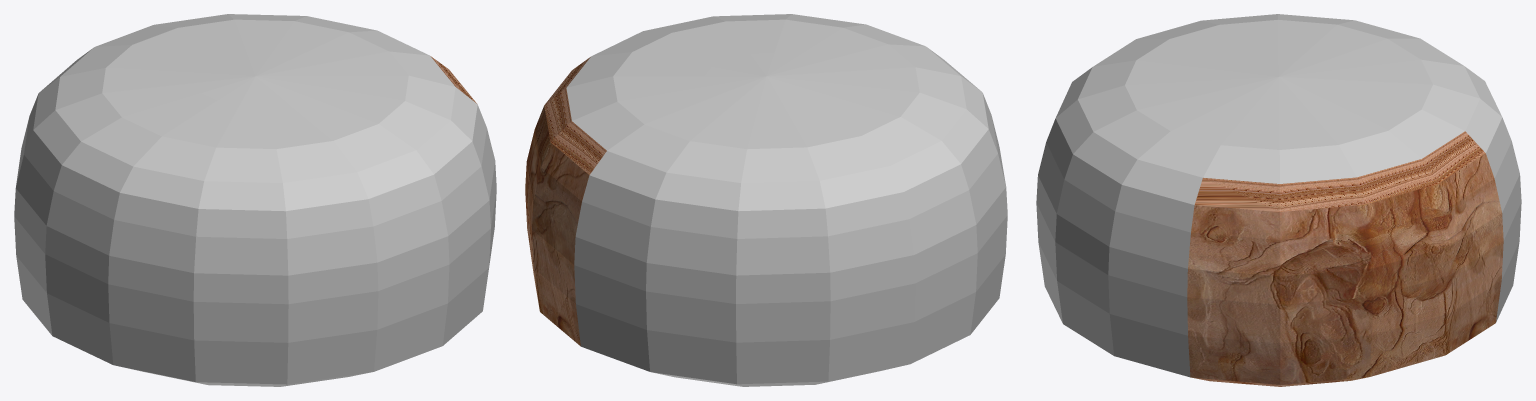
File: Skybox.obj
The picture shows the model from 3 angles, left to right: view 1: azimuth 30°, elevation 25°; view 2: azimuth 150°, elevation 25°; view 3: azimuth 270°, elevation 25°; orthographic projection.
Visible parts, largest first — view 1: Object_2; view 2: Object_2; view 3: Object_2.
Part boxes in pixels (box(x1,y1,x2,y2)): Object_2: box(14, 14, 496, 386); Object_2: box(525, 14, 1007, 386); Object_2: box(1036, 14, 1521, 386).
Bounding box in the file's own units: 351590 × 195564 × 351590.
